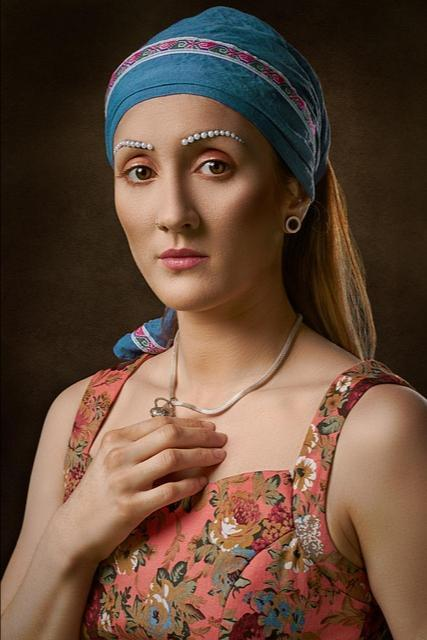Non_Gorille: (15, 9, 427, 640)
